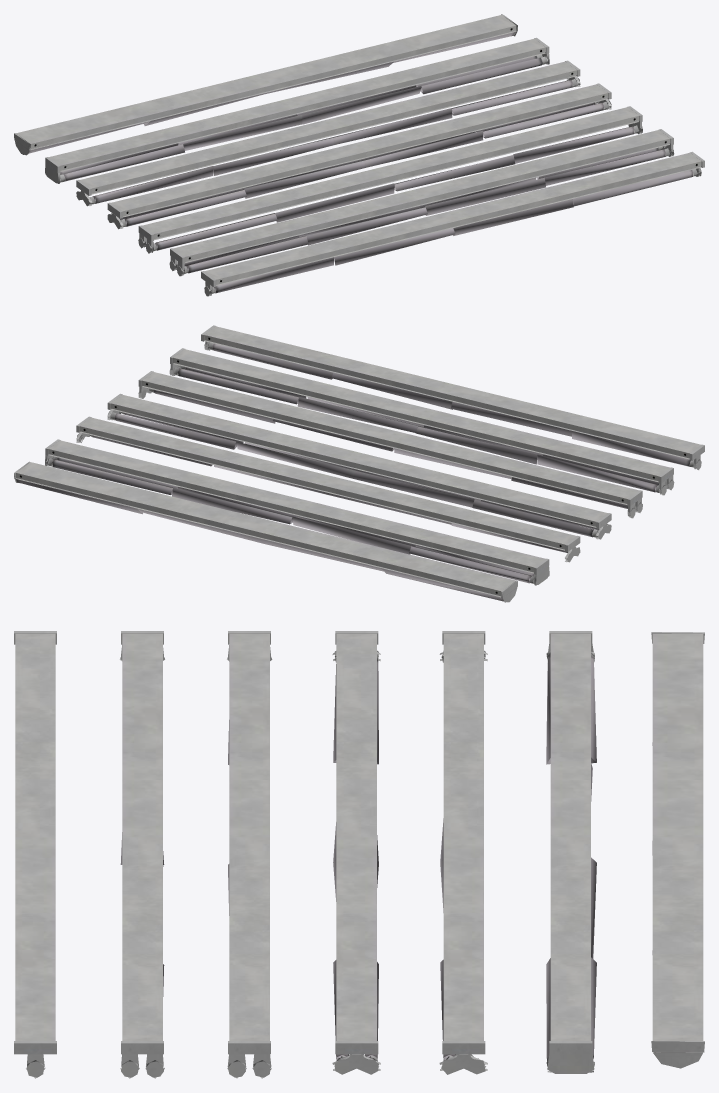
File: mounted_fluorescent_lights.glb
3 renders of one model, top to bottom at view 1: azimuth 30°, elevation 25°; view 2: azimuth 150°, elevation 25°; view 3: azimuth 270°, elevation 25°, orthographic. The views are drawn at different scales.
Visible parts, largest first — view 1: mounted_fluorescent_lights; view 2: mounted_fluorescent_lights; view 3: mounted_fluorescent_lights.
Boxes of the visible parts, bbox=[...] form: mounted_fluorescent_lights: bbox=[14, 14, 704, 296]; mounted_fluorescent_lights: bbox=[14, 325, 704, 602]; mounted_fluorescent_lights: bbox=[14, 631, 704, 1078].
Bounding box in the file's own units: 0.9122 × 0.0365 × 0.6454.
2 materials, 2 textured.
